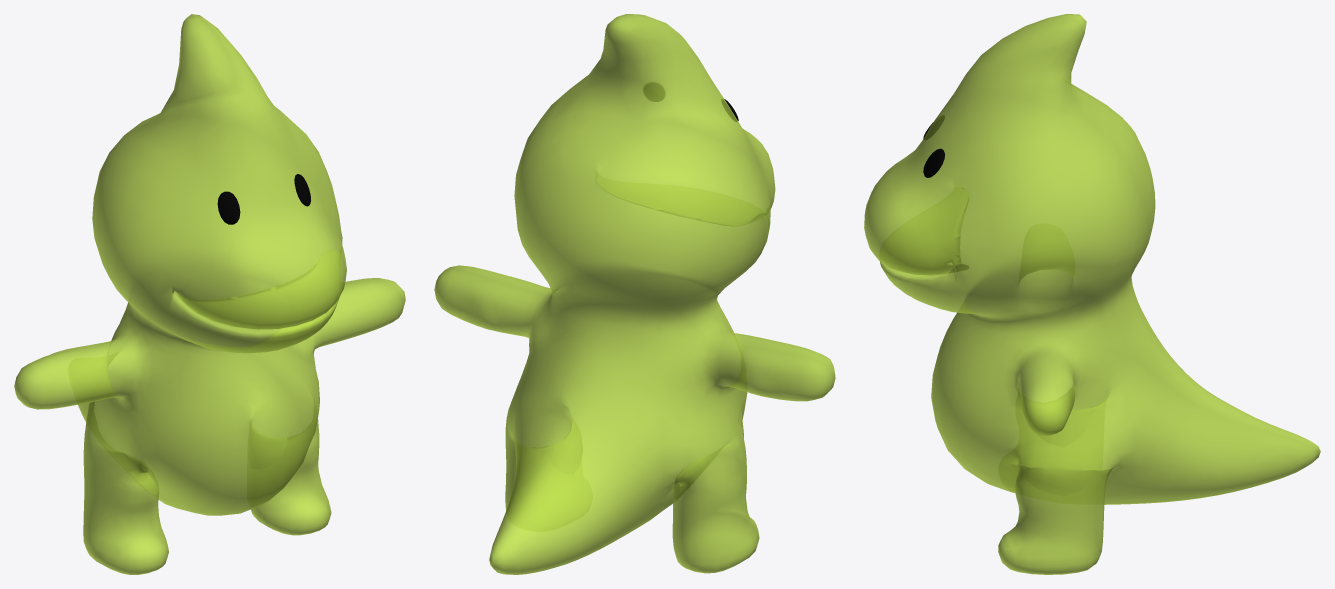
Rendered from Mochi 18.glb.
3 views of the same model, side by side, from view 1: azimuth 30°, elevation 25°; view 2: azimuth 150°, elevation 25°; view 3: azimuth 270°, elevation 25° (orthographic). The views are drawn at different scales.
Visible parts, largest first — view 1: Mochi 18, Ojos M18; view 2: Mochi 18, Ojos M18; view 3: Mochi 18, Ojos M18.
Part boxes in pixels (bbox=[...]): Mochi 18: bbox=[14, 14, 405, 574]; Ojos M18: bbox=[217, 174, 310, 224]; Mochi 18: bbox=[434, 14, 835, 574]; Ojos M18: bbox=[643, 83, 738, 121]; Mochi 18: bbox=[864, 14, 1320, 574]; Ojos M18: bbox=[923, 116, 944, 177].
Bounding box in the file's own units: 2.46 × 3.13 × 2.54.
